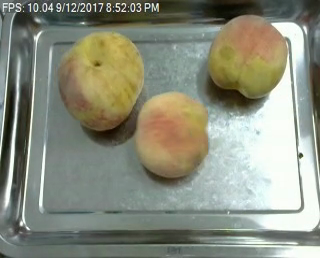Peach: (58, 29, 144, 131), (207, 14, 288, 98), (133, 91, 209, 179)
